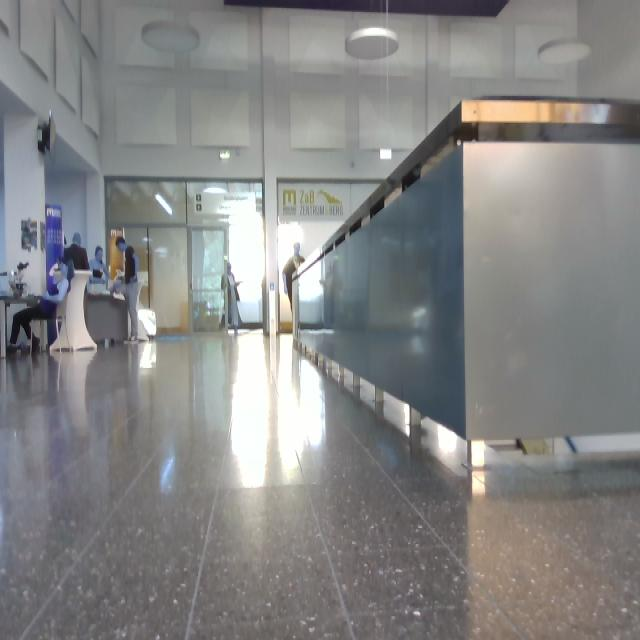door: (150, 229, 190, 334), (194, 231, 225, 333), (127, 228, 150, 309)
light bulb: (142, 21, 201, 52), (346, 28, 400, 60), (539, 39, 592, 64), (439, 426, 459, 454), (472, 441, 486, 469), (156, 194, 174, 215), (221, 151, 230, 161)
person: (9, 260, 75, 352), (114, 238, 140, 344), (222, 263, 244, 334), (89, 248, 111, 294), (65, 234, 90, 271)
pillar: (5, 114, 47, 295)
staircase: (295, 101, 640, 469)
table: (51, 271, 97, 350)
tiled floor: (1, 333, 640, 639)
